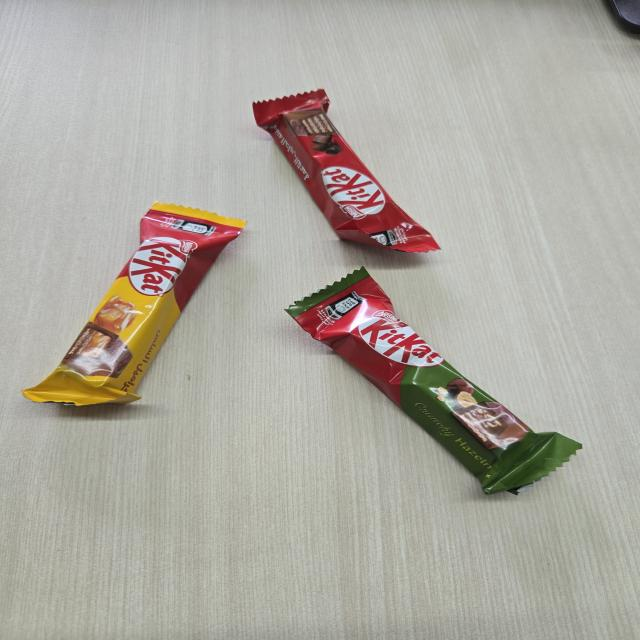chocolate-bar: (282, 266, 584, 499), (19, 197, 254, 418), (244, 81, 459, 258)
